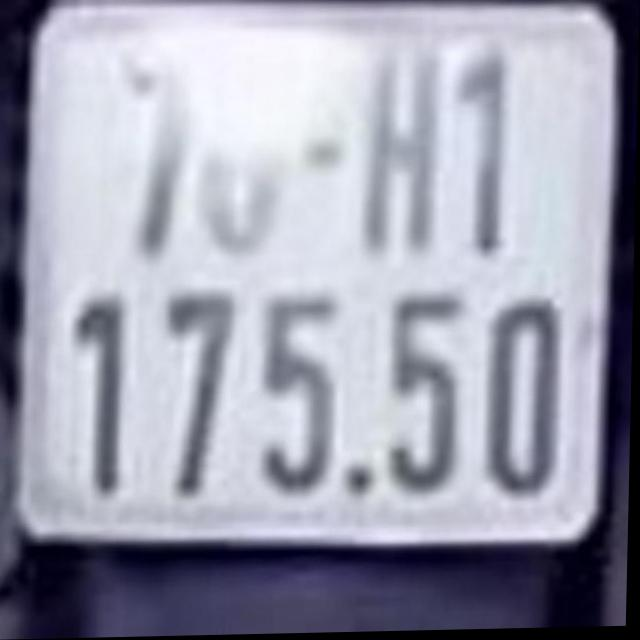0: (486, 300, 567, 492)
1: (69, 293, 135, 497), (460, 42, 512, 263)
5: (258, 288, 344, 488), (389, 291, 465, 500)
7: (115, 40, 192, 254), (163, 288, 240, 499)
8: (200, 39, 291, 255)
H: (365, 32, 449, 251)
